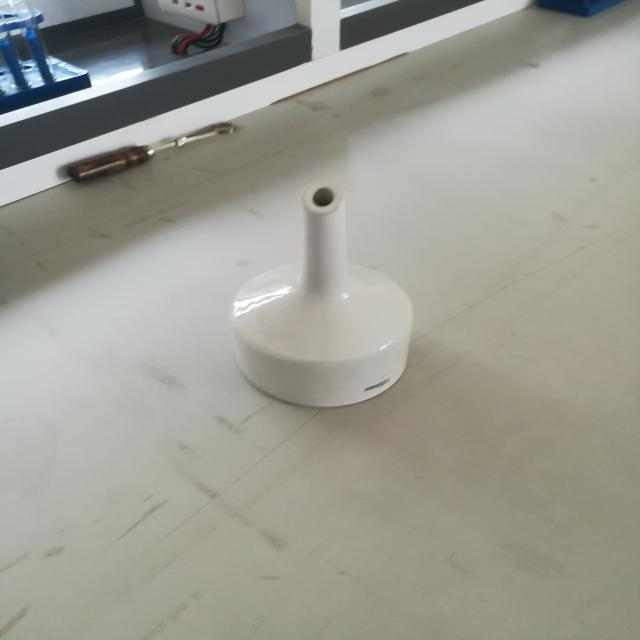Buchner_Funnel: (179, 162, 452, 440)
